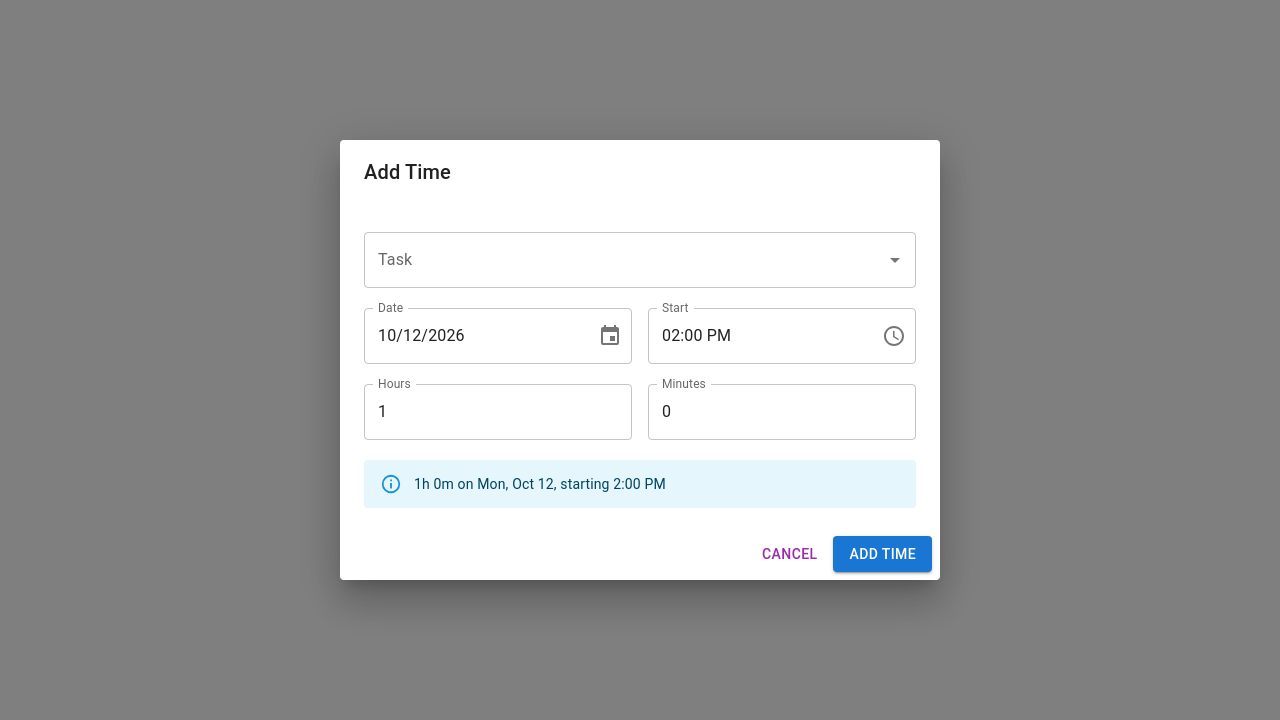
AddTimeDialog › offers active tasks only
Press the mouse on the dropdown labelled "Task" at (625,260), box [373,241,877,279]
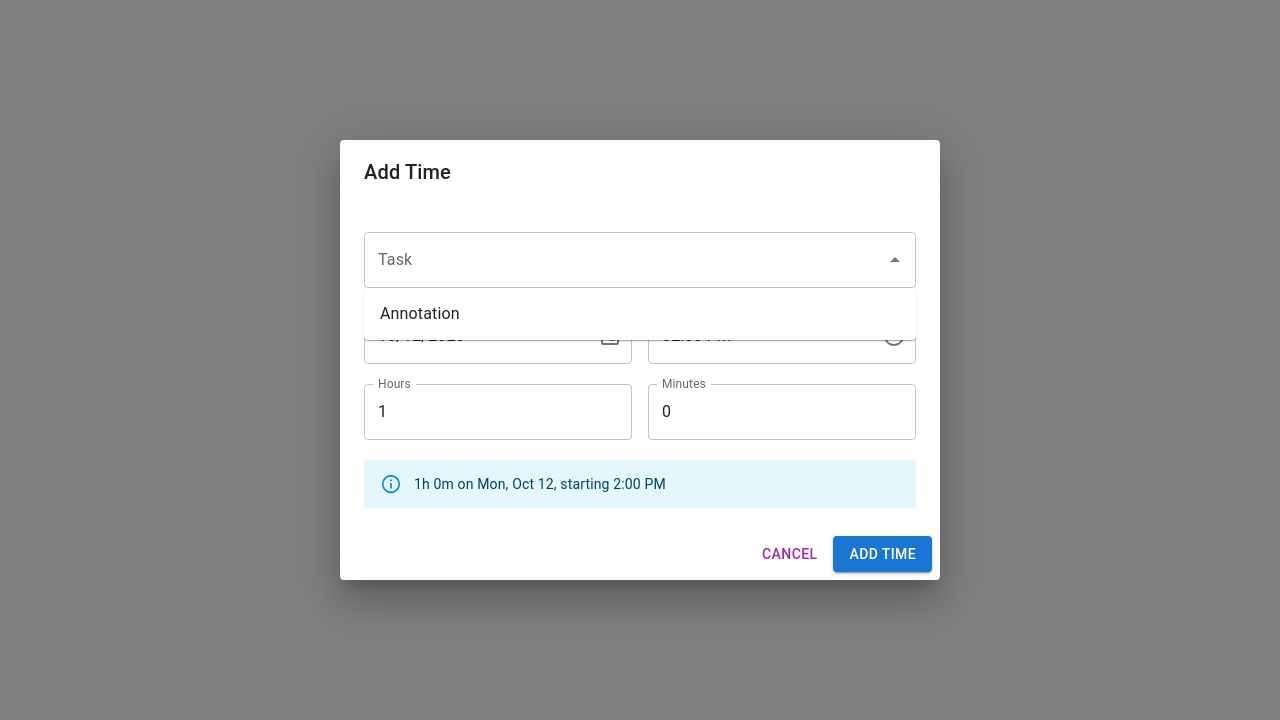
Result: the options read "Annotation", in this order at [380,304,460,323]
